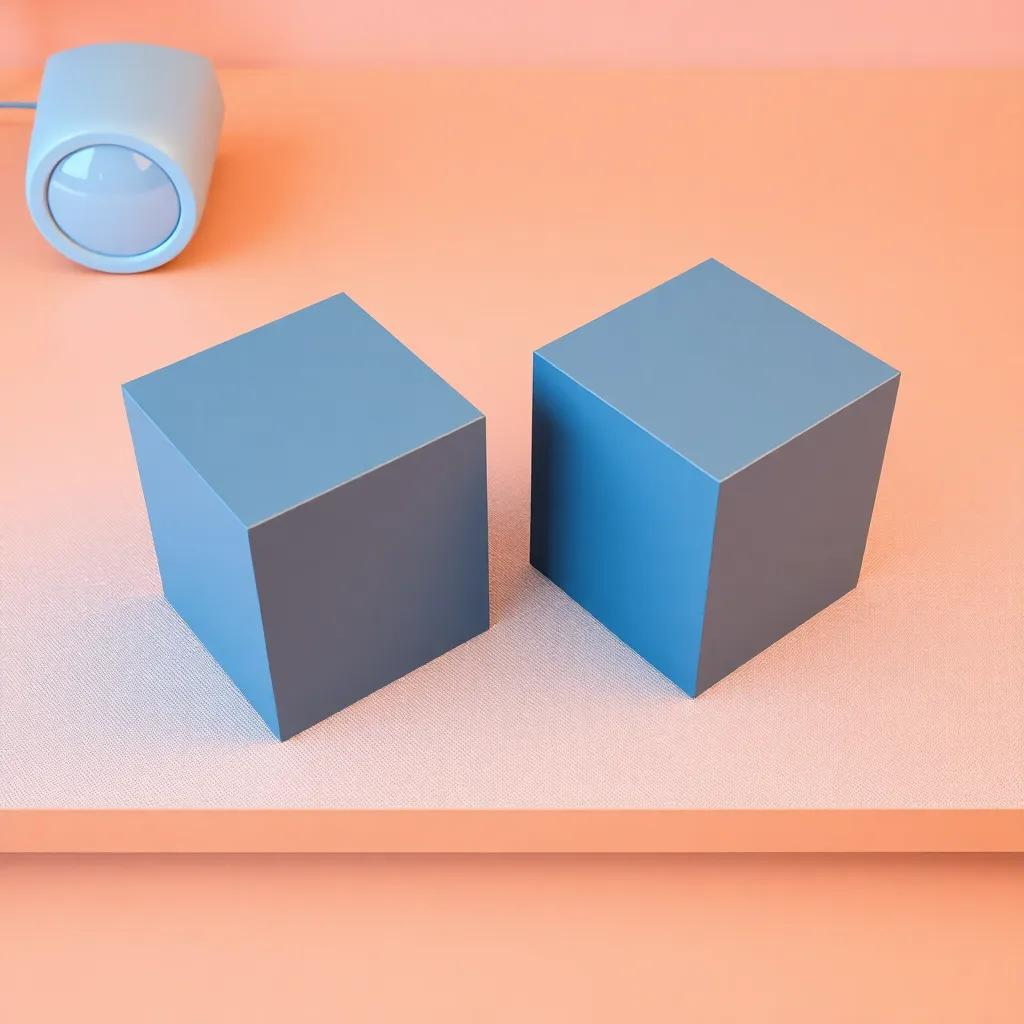cube: (119, 289, 490, 741), (528, 255, 901, 699)
